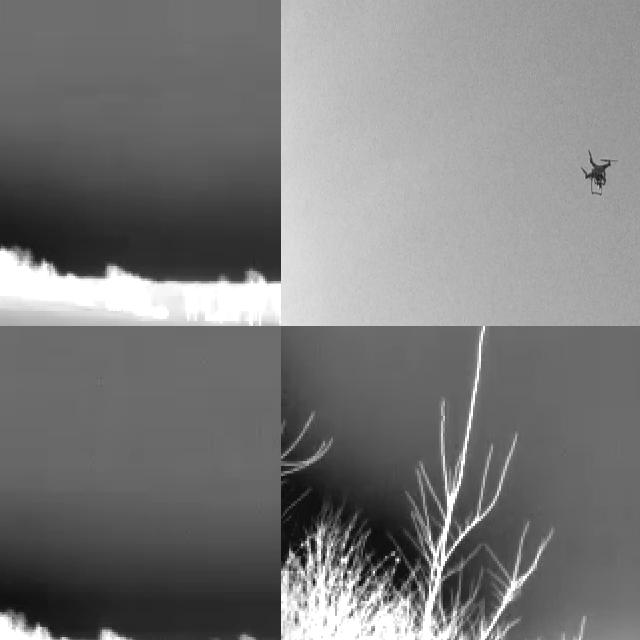drone: (579, 144, 619, 199)
